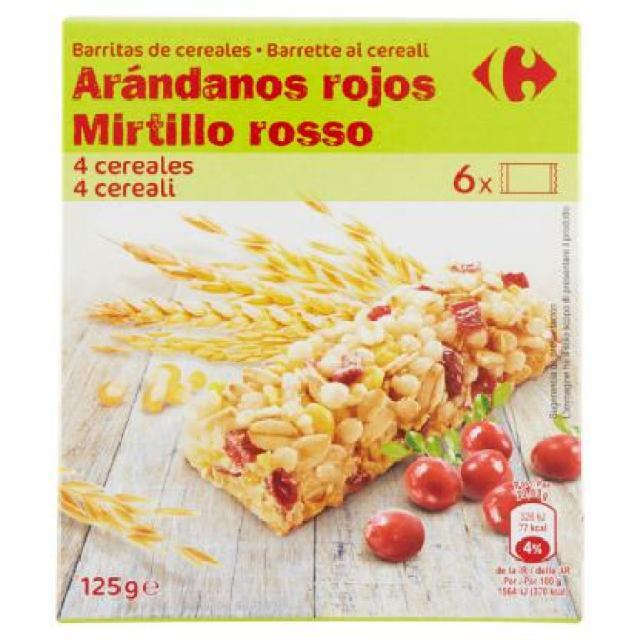Cereal bar: (42, 8, 590, 628)
